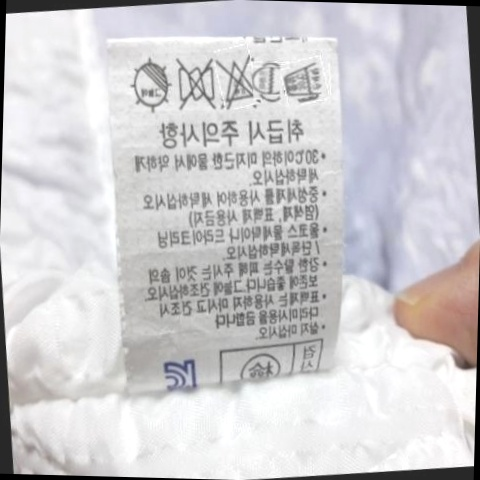DN_wring: (172, 57, 216, 108)
dry_clean: (253, 62, 284, 97)
hand_wash: (281, 57, 326, 100)
non_chlorine_bleach: (219, 54, 255, 105)
shade_dry: (126, 57, 173, 114)
